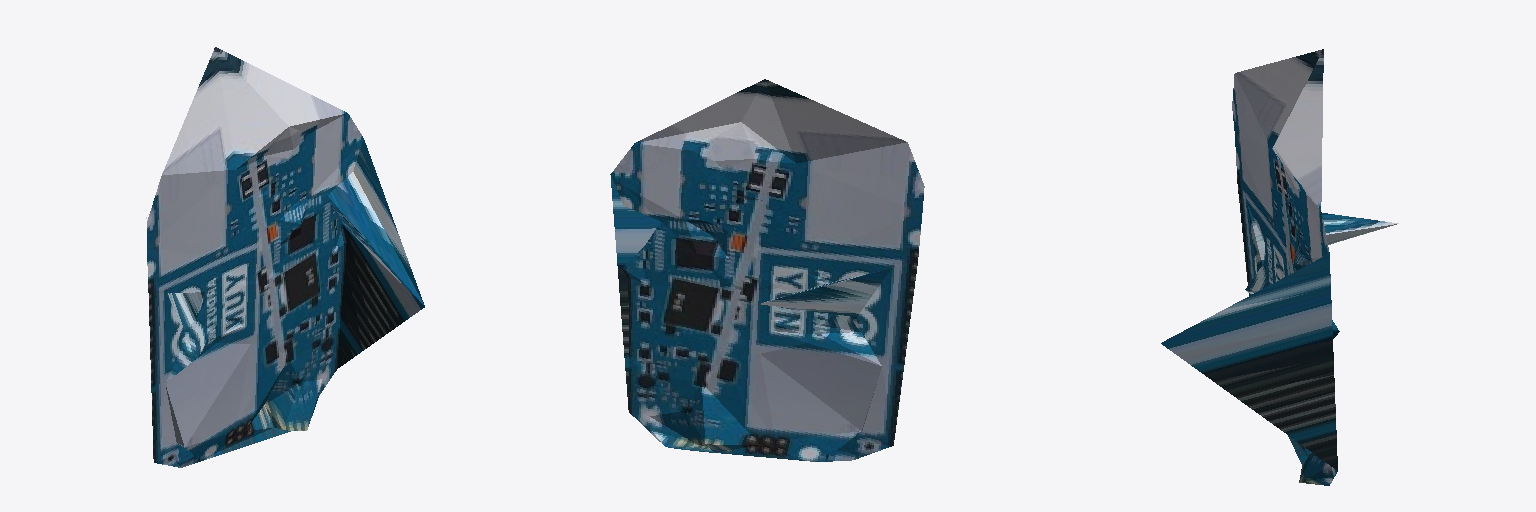
3 views of the same model, side by side, from view 1: azimuth 30°, elevation 25°; view 2: azimuth 150°, elevation 25°; view 3: azimuth 270°, elevation 25° (orthographic).
Size of the model in its own units: 0.1493 by 0.2126 by 0.1166.
Materials: 1 (1 with a texture image).